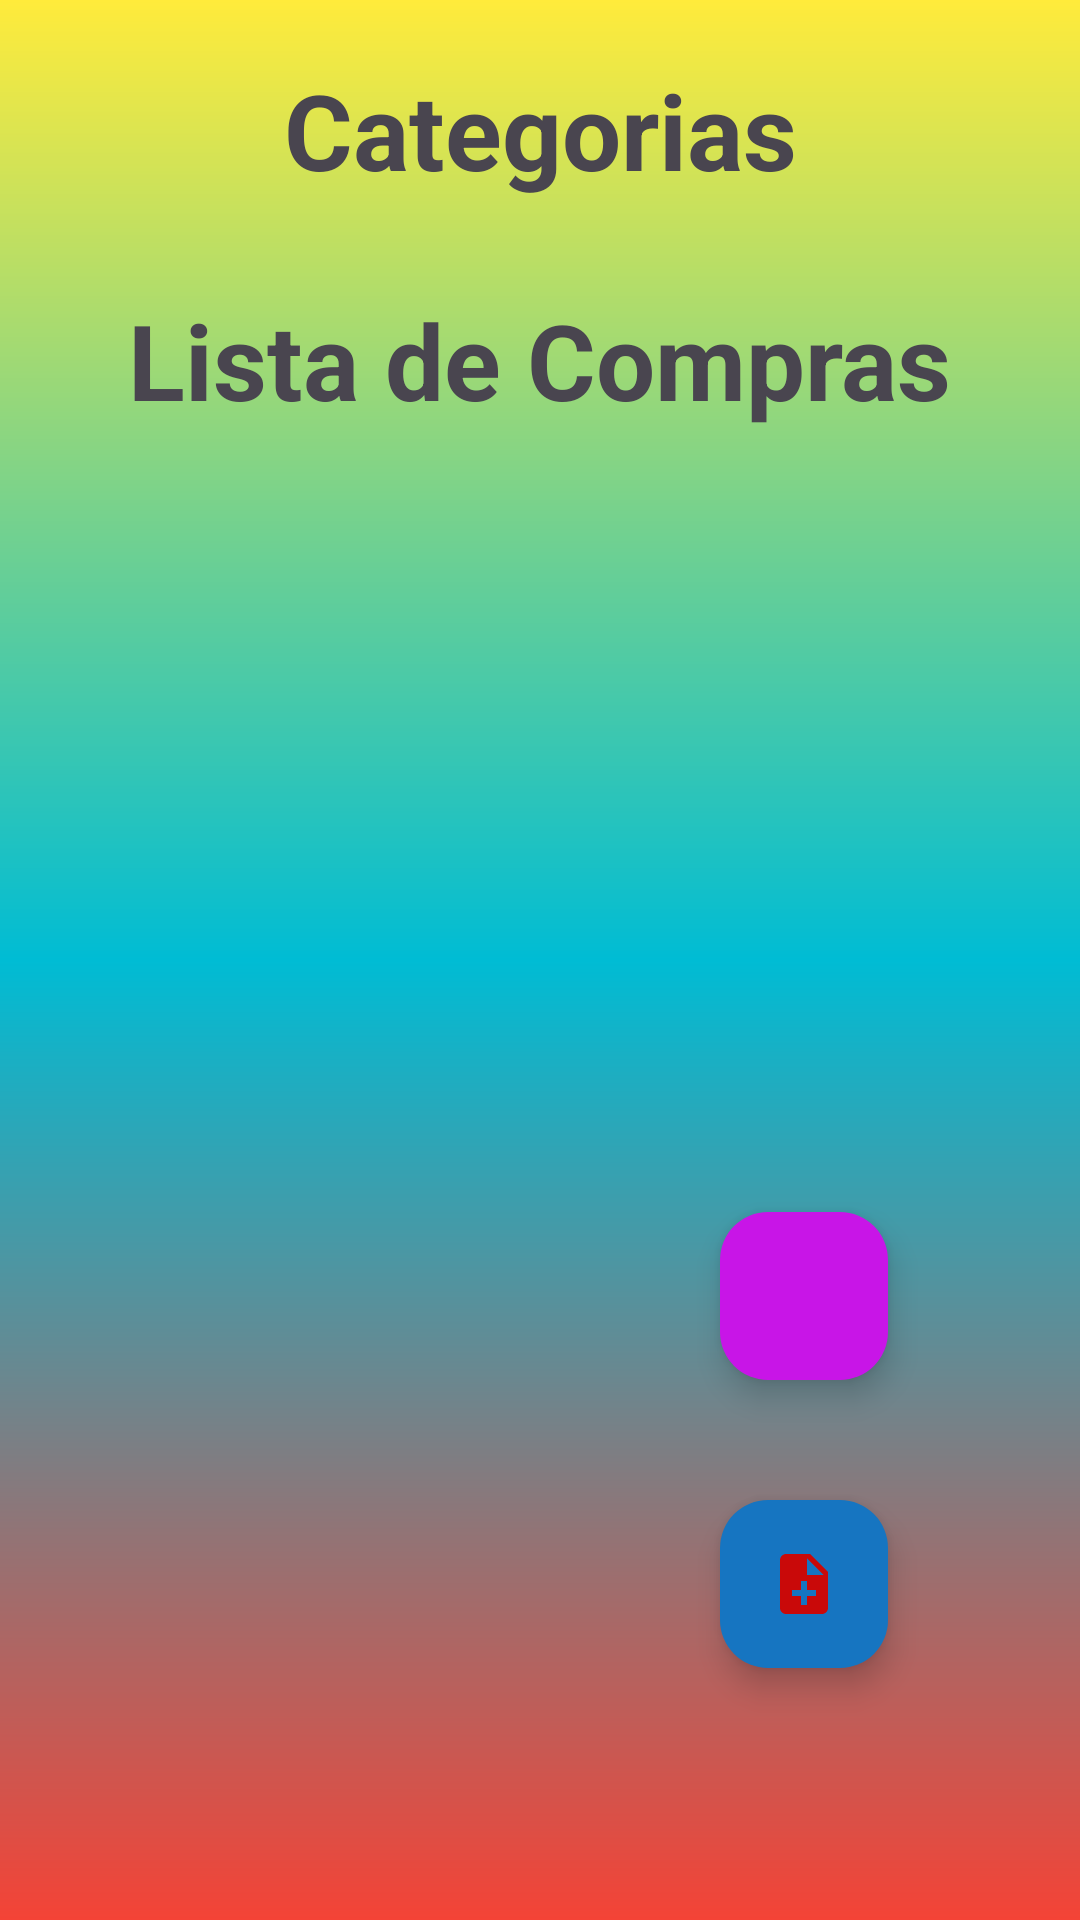

Screen size 1080px×1920px. Icon name, then its center in pixels as [x,y]:
add note: [804,1584]
